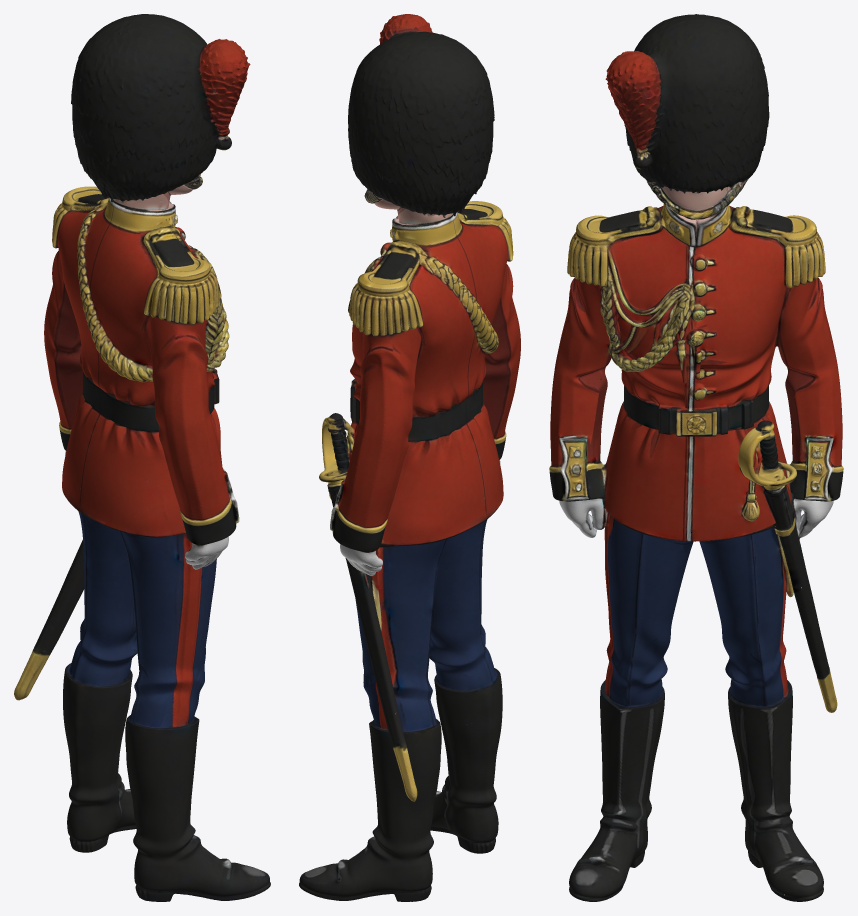
The model's file is royal+guard+3d+model.glb.
3 renders of one model, left to right at view 1: azimuth 30°, elevation 25°; view 2: azimuth 150°, elevation 25°; view 3: azimuth 270°, elevation 25°, orthographic. The views are drawn at different scales.
Parts seen in each view (by area): view 1: tripo_node_70003f8e-0537-4d88-875f-83ff3b50bd6f; view 2: tripo_node_70003f8e-0537-4d88-875f-83ff3b50bd6f; view 3: tripo_node_70003f8e-0537-4d88-875f-83ff3b50bd6f.
Part boxes in pixels (left/top/right/bottom): tripo_node_70003f8e-0537-4d88-875f-83ff3b50bd6f: left=14, top=14, right=270, bottom=901; tripo_node_70003f8e-0537-4d88-875f-83ff3b50bd6f: left=299, top=14, right=520, bottom=901; tripo_node_70003f8e-0537-4d88-875f-83ff3b50bd6f: left=549, top=14, right=843, bottom=901.
Bounding box in the file's own units: 0.1751 × 0.9988 × 0.3129.
Materials: 1 (1 with a texture image).
